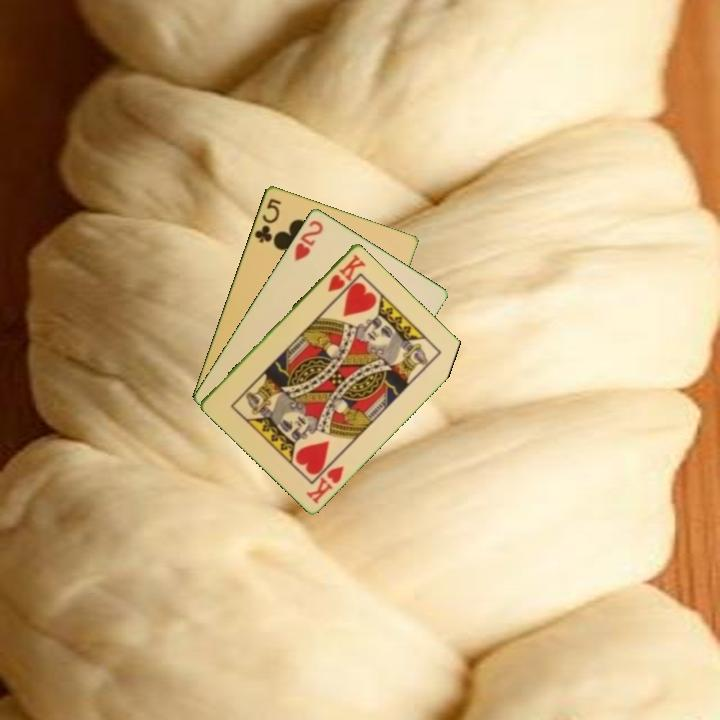2h: (290, 216, 326, 264)
5c: (250, 194, 284, 245)
Kh: (324, 250, 368, 295), (302, 462, 347, 506)
